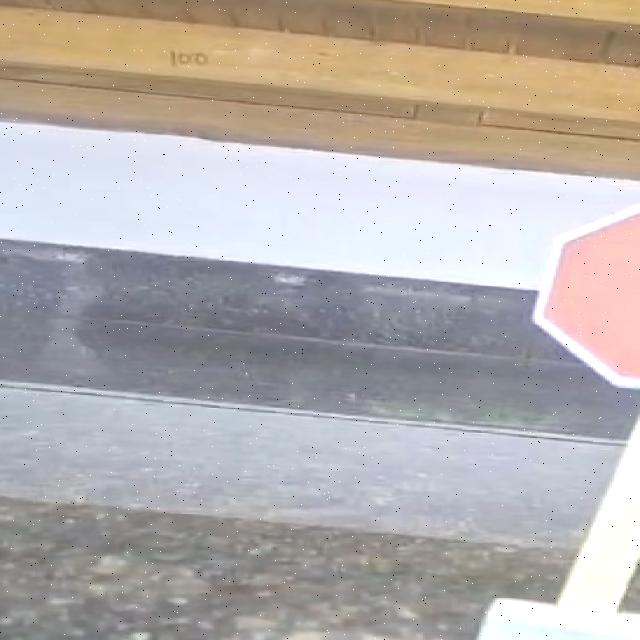Stop: (532, 186, 640, 403)
